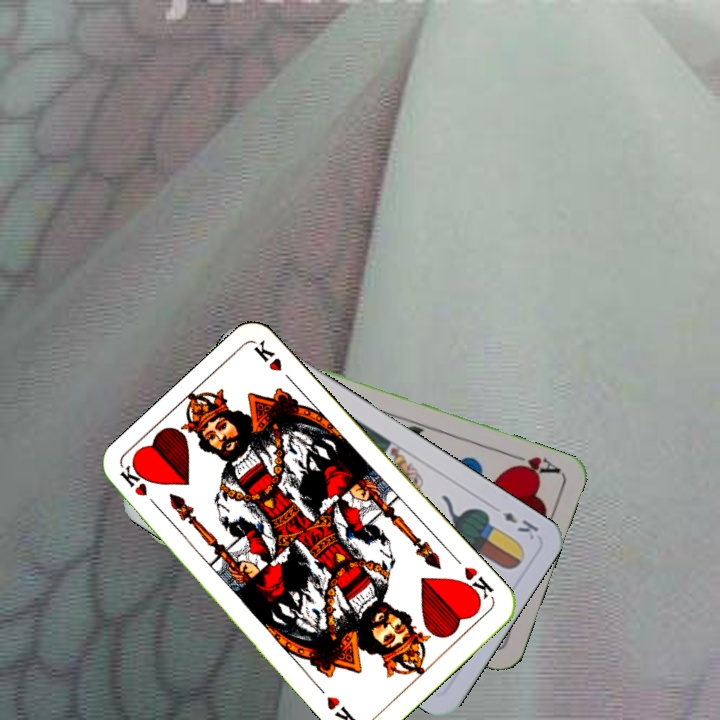EK: (498, 507, 541, 543)
HA: (505, 449, 563, 480)
HK: (116, 463, 164, 514), (456, 563, 497, 605)
